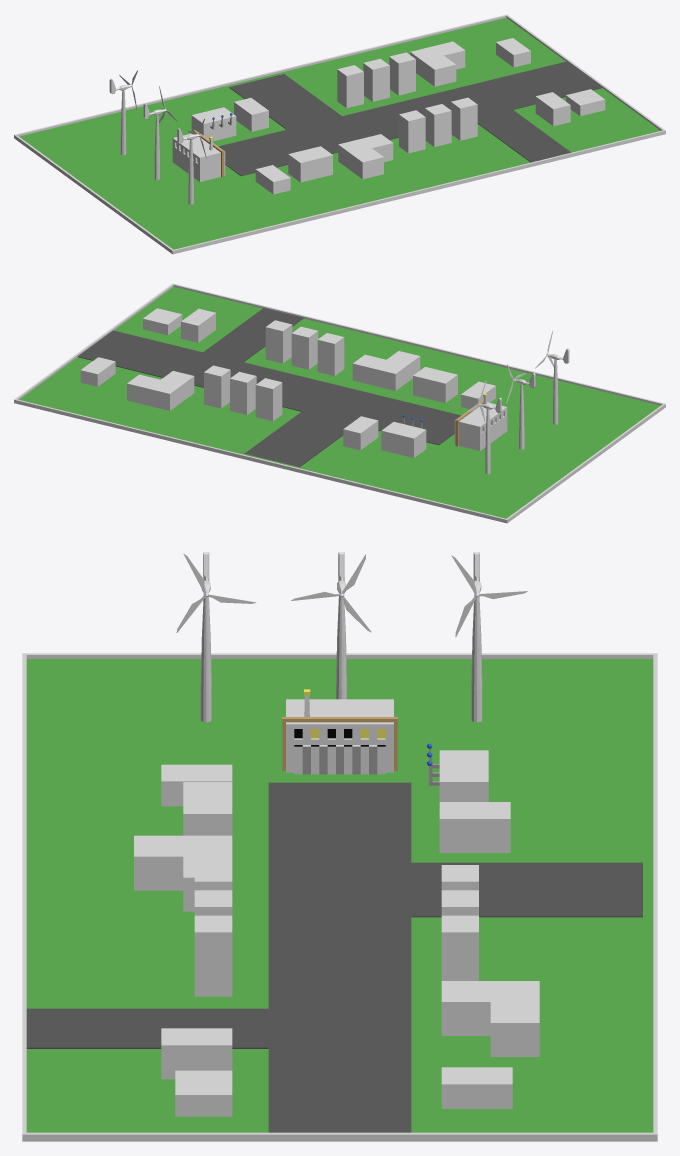
File: all.glb
3 views of the same model, one above another, from view 1: azimuth 30°, elevation 25°; view 2: azimuth 150°, elevation 25°; view 3: azimuth 270°, elevation 25° (orthographic). The views are drawn at different scales.
Parts seen in each view (by area): view 1: землля, дорога, жилой район, жилой район.001, завод 1, Подстанция, завод 1.001, МП 2, МП 1, Больница 2.001, Больница 2, Больница 2.002 (+5 smaller); view 2: землля, дорога, жилой район.001, жилой район, завод 1.001, завод 1, Подстанция, МП 1, МП 2, Больница 2, Больница 2.001, Больница 2.002 (+5 smaller); view 3: землля, дорога, Подстанция, завод 1.001, жилой район.001, завод 1, жилой район, Больница 2, Больница 2.001, СБ.001, МП 1, Больница 2.002 (+5 smaller).
Part boxes in pixels (x1,y1,x2,y2): землля: (14,14,665,254); дорога: (218,61,602,175); жилой район: (337,52,415,107); жилой район.001: (399,97,477,153); завод 1: (338,134,393,179); Подстанция: (172,130,225,181); завод 1.001: (410,41,465,86); МП 2: (288,146,332,182); МП 1: (191,107,236,141); Больница 2.001: (535,92,570,126); Больница 2: (234,98,268,131); Больница 2.002: (566,89,605,116); землля: (14,283,665,523); дорога: (77,308,461,467); жилой район.001: (265,320,344,375); жилой район: (204,365,282,421); завод 1.001: (127,371,194,410); завод 1: (352,351,420,390); Подстанция: (454,400,507,450); МП 1: (381,415,426,457); МП 2: (413,367,457,402); Больница 2: (343,416,378,450); Больница 2.001: (181,308,215,342); Больница 2.002: (143,308,182,335); землля: (22,653,657,1141); дорога: (26,782,642,1132); Подстанция: (282,699,397,774); завод 1.001: (441,981,539,1056); жилой район.001: (194,865,232,996); завод 1: (134,835,232,911); жилой район: (441,865,478,980); Больница 2: (439,802,510,852); Больница 2.001: (161,1028,232,1079); СБ.001: (441,1067,512,1108); МП 1: (427,743,488,801); Больница 2.002: (175,1070,232,1116).
Bounding box in the file's own units: 253 × 43.77 × 141.
